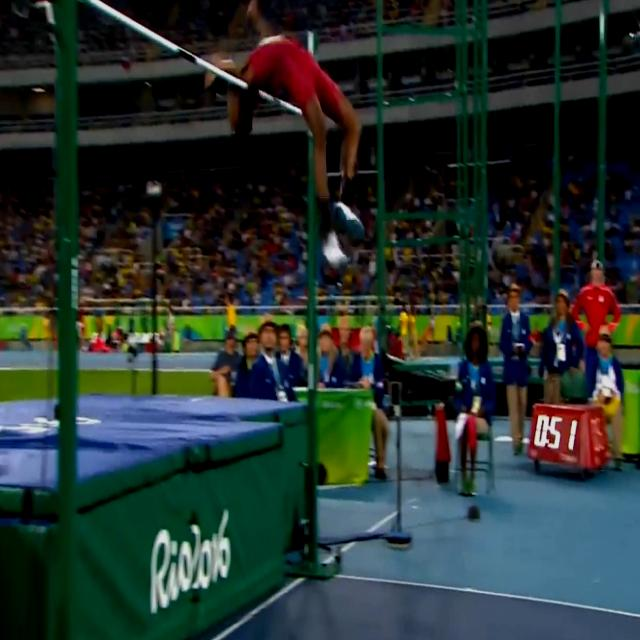jump: (203, 0, 366, 275)
